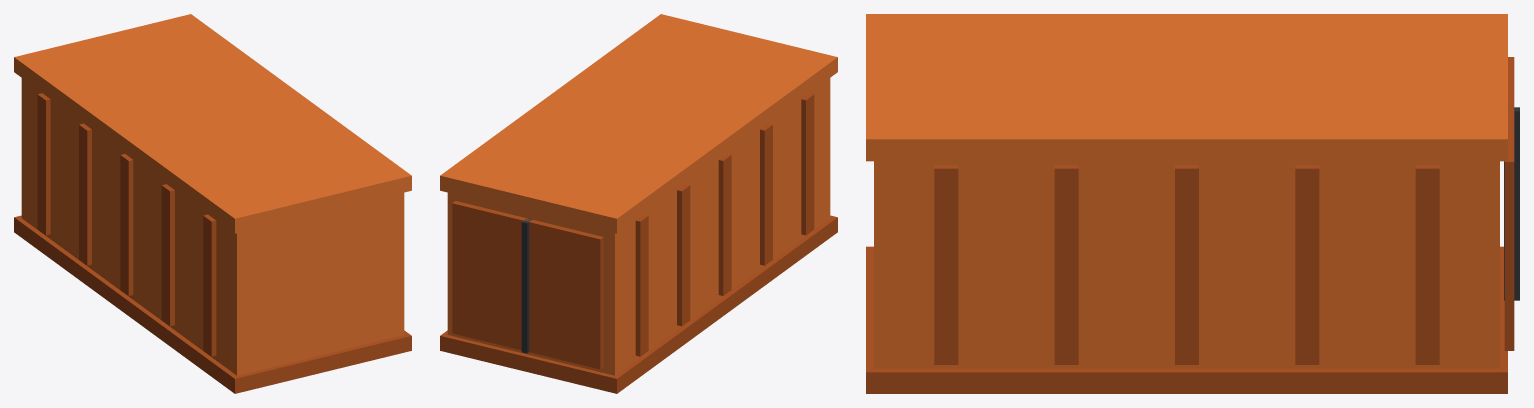
The model's file is conteiner_a.glb.
3 renders of one model, left to right at view 1: azimuth 30°, elevation 25°; view 2: azimuth 150°, elevation 25°; view 3: azimuth 270°, elevation 25°, orthographic. The views are drawn at different scales.
Visible parts, largest first — view 1: corpo; view 2: corpo; view 3: corpo.
Part boxes in pixels (<box>): corpo: <box>14,14,411,393</box>; corpo: <box>440,14,837,393</box>; corpo: <box>866,14,1519,393</box>.
Bounding box in the file's own units: 0.37 × 0.35 × 0.815.
